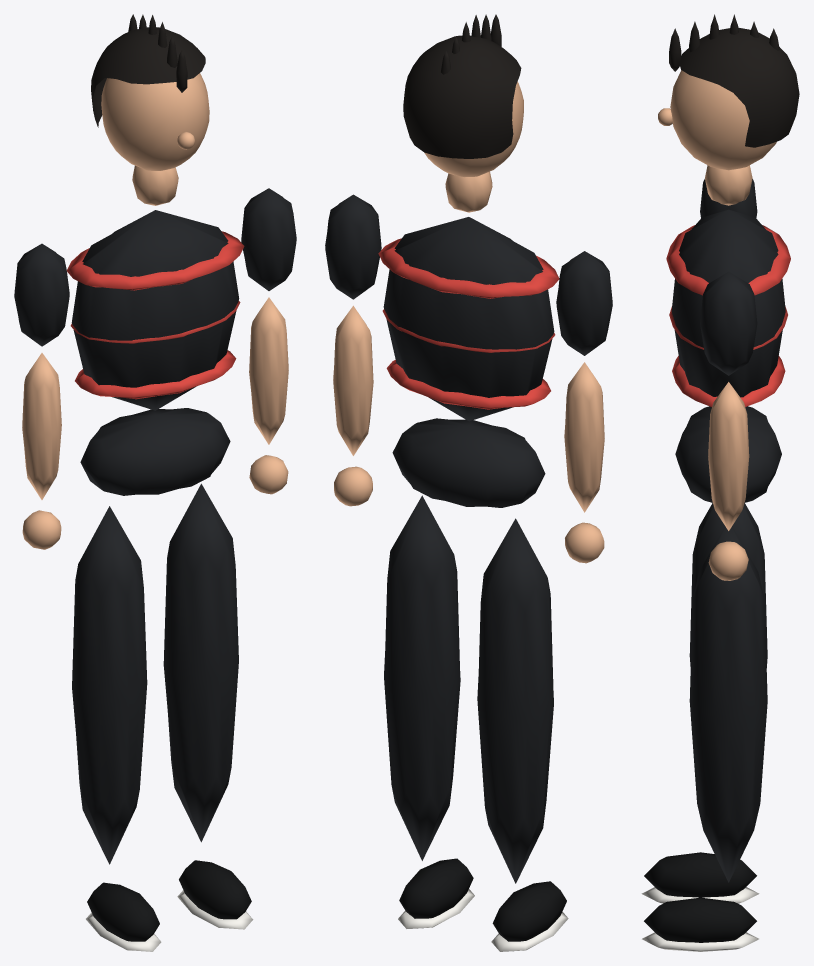
The model's file is getkong-hhped9.glb.
The picture shows the model from 3 angles, left to right: view 1: azimuth 30°, elevation 25°; view 2: azimuth 150°, elevation 25°; view 3: azimuth 270°, elevation 25°; orthographic projection.
Visible parts, largest first — view 1: rumpf, beinR, beinL, kopf, armL, armR; view 2: rumpf, beinL, beinR, kopf, armL, armR; view 3: beinR, rumpf, kopf, armR, beinL, armL.
Boxes of the visible parts, x1,y1,x2,y2 form: rumpf: (66, 165, 244, 495); beinR: (163, 483, 253, 929); beinL: (72, 506, 161, 951); kopf: (91, 14, 209, 170); armL: (14, 243, 69, 549); armR: (241, 188, 296, 494); rumpf: (378, 171, 559, 507); beinL: (477, 518, 568, 951); beinR: (384, 495, 474, 928); kopf: (403, 14, 523, 177); armL: (556, 251, 612, 563); armR: (325, 194, 381, 506); beinR: (642, 526, 767, 951); rumpf: (666, 165, 790, 502); kopf: (658, 14, 799, 170); armR: (700, 271, 757, 580); beinL: (641, 503, 767, 903); armL: (700, 179, 757, 217).
Size of the model in its own units: 0.5718 by 1.78 by 0.2807.
